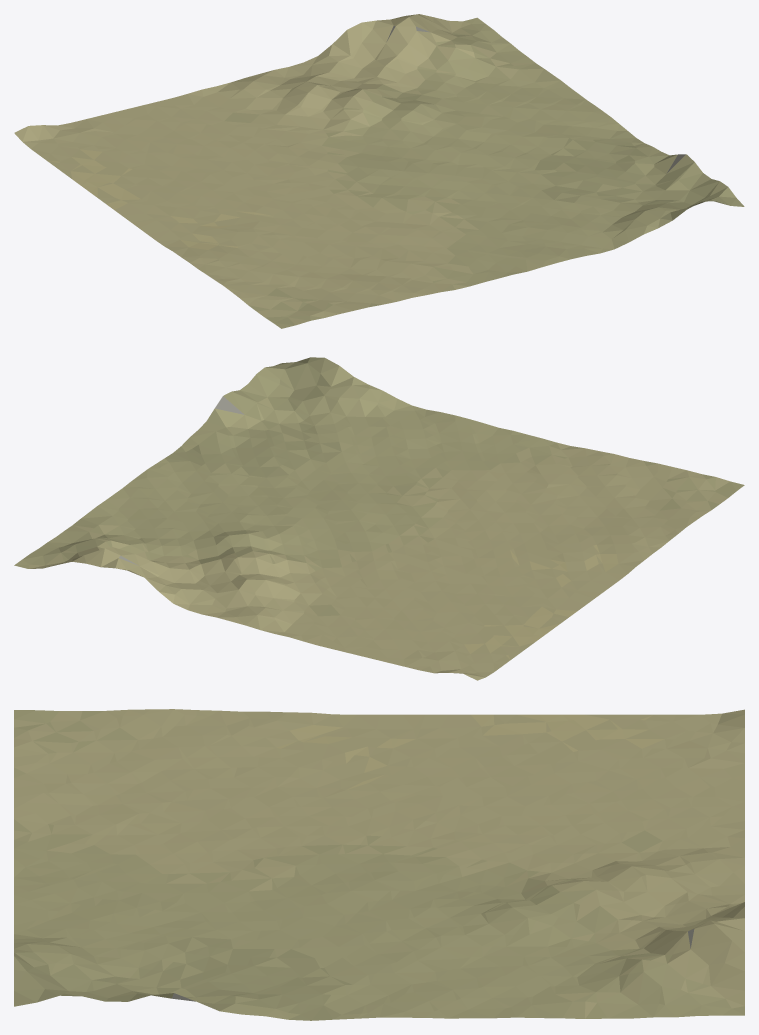
File: Ground_4_-8.glb
3 renders of one model, top to bottom at view 1: azimuth 30°, elevation 25°; view 2: azimuth 150°, elevation 25°; view 3: azimuth 270°, elevation 25°, orthographic. The views are drawn at different scales.
Parts seen in each view (by area): view 1: Ground_4_-8; view 2: Ground_4_-8; view 3: Ground_4_-8.
Part boxes in pixels (<box>): Ground_4_-8: <box>14,14,744,328</box>; Ground_4_-8: <box>14,357,744,680</box>; Ground_4_-8: <box>14,709,744,1020</box>.
Size of the model in its own units: 768 by 54.32 by 768.
